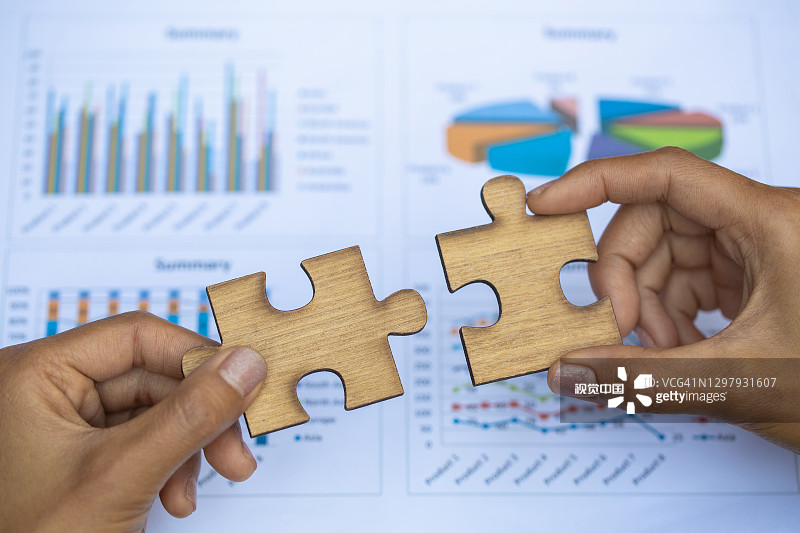no-phone: (514, 127, 800, 459), (1, 265, 299, 531)
